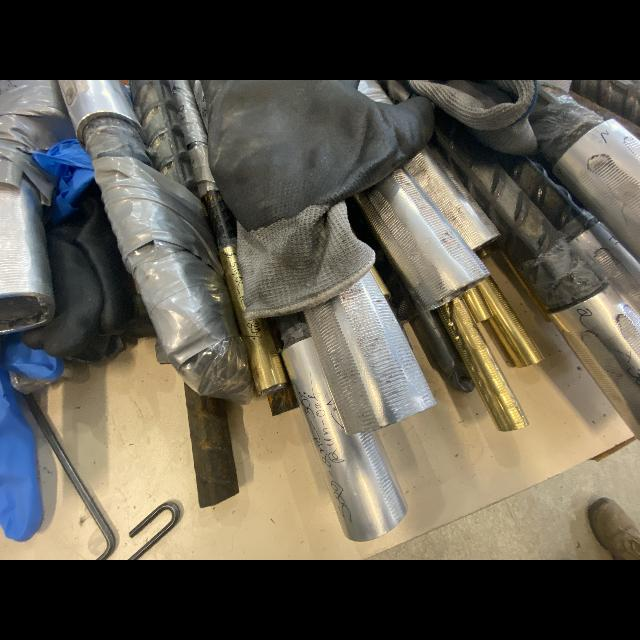Aluminium: (282, 338, 410, 539), (304, 274, 436, 433), (546, 221, 640, 440), (359, 168, 489, 310), (553, 119, 640, 259), (404, 144, 499, 249), (0, 179, 55, 336)
Brass: (438, 295, 529, 431), (219, 247, 287, 393), (478, 274, 544, 367), (503, 251, 548, 321), (463, 283, 493, 322), (370, 266, 390, 299), (479, 242, 499, 257)
Ferrous Metal: (435, 130, 607, 311), (23, 394, 114, 560), (498, 155, 597, 240), (130, 80, 199, 196), (185, 384, 239, 507), (529, 85, 603, 165), (83, 116, 152, 166), (569, 91, 640, 139), (570, 80, 640, 126), (128, 501, 180, 560), (375, 259, 414, 321), (202, 190, 237, 252), (267, 383, 299, 416)
